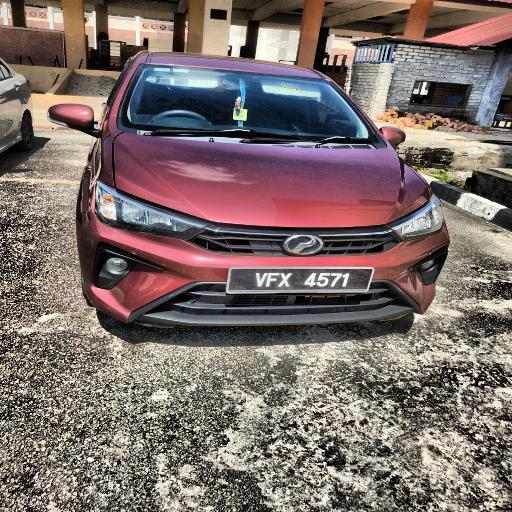license_plate: (226, 266, 373, 295)
